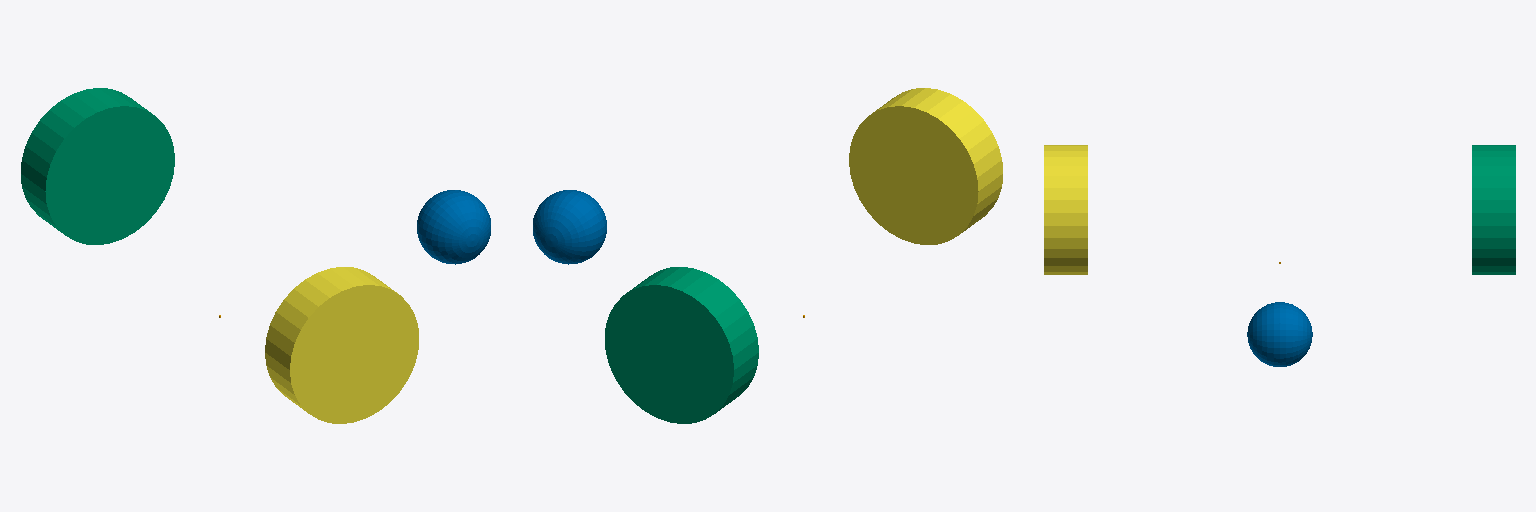
The robot description file, URDF, robot "lubobot_description":
<?xml version="1.0" ?>
<!-- =================================================================================== -->
<!-- |    This document was autogenerated by xacro from /catkin_ws/src/lubobot/urdf/lubobot.urdf.xacro | -->
<!-- |    EDITING THIS FILE BY HAND IS NOT RECOMMENDED                                 | -->
<!-- =================================================================================== -->
<robot name="lubobot_description" xmlns:xacro="http://ros.org/wiki/xacro">
  <link name="base_footprint">
    <visual>
      <origin rpy="0 0 0" xyz="0 0 0"/>
      <geometry>
        <box size="0.001 0.001 0.001"/>
      </geometry>
      <material name="Green"/>
    </visual>
    <collision>
      <origin rpy="0 0 0" xyz="0 0 0.017"/>
      <geometry>
        <box size="0.001 0.001 0.001"/>
      </geometry>
    </collision>
  </link>
  <link name="base_link">
    <inertial>
      <mass value="2"/>
      <origin xyz="0 0 0.0"/>
      <inertia ixx="0.01" ixy="0.0" ixz="0.0" iyy="0.01" iyz="0.0" izz="0.5"/>
    </inertial>
    <visual>
      <origin rpy="0 0 0" xyz=" 0 0 0.0308"/>
      <geometry>
        <mesh filename="package://lubobot/meshes/create_2.dae"/>
      </geometry>
    </visual>
    <collision>
      <origin rpy="0 0 0" xyz="0.0 0.0 0.0308"/>
      <geometry>
        <cylinder length="0.0611632" radius="0.16495"/>
      </geometry>
    </collision>
  </link>
  <joint name="base_footprint_joint" type="fixed">
    <origin rpy="0 0 0" xyz="0 0 0.017"/>
    <parent link="base_footprint"/>
    <child link="base_link"/>
  </joint>
  <link name="left_wheel_link">
    <inertial>
      <origin xyz="0 0 0"/>
      <mass value="0.01"/>
      <inertia ixx="0.001" ixy="0.0" ixz="0.0" iyy="0.001" iyz="0.0" izz="0.001"/>
    </inertial>
    <visual>
      <origin rpy="0 1.57079632679 1.57079632679" xyz="0 0 0"/>
      <geometry>
        <cylinder length="0.024" radius="0.036"/>
      </geometry>
    </visual>
    <collision>
      <origin rpy="0 1.57079632679 1.57079632679" xyz="0 0 0"/>
      <geometry>
        <cylinder length="0.024" radius="0.036"/>
      </geometry>
    </collision>
  </link>
  <joint name="left_wheel_joint" type="continuous">
    <origin rpy="0 0 0" xyz="0 0.1175 0.015"/>
    <parent link="base_link"/>
    <child link="left_wheel_link"/>
    <axis xyz="0 1 0"/>
  </joint>
  <link name="right_wheel_link">
    <inertial>
      <origin xyz="0 0 0"/>
      <mass value="0.01"/>
      <inertia ixx="0.001" ixy="0.0" ixz="0.0" iyy="0.001" iyz="0.0" izz="0.001"/>
    </inertial>
    <visual>
      <origin rpy="0 1.57079632679 1.57079632679" xyz="0 0 0"/>
      <geometry>
        <cylinder length="0.024" radius="0.036"/>
      </geometry>
    </visual>
    <collision>
      <origin rpy="0 1.57079632679 1.57079632679" xyz="0 0 0"/>
      <geometry>
        <cylinder length="0.024" radius="0.036"/>
      </geometry>
    </collision>
  </link>
  <joint name="right_wheel_joint" type="continuous">
    <origin rpy="0 0 0" xyz="0 -0.1175 0.015"/>
    <parent link="base_link"/>
    <child link="right_wheel_link"/>
    <axis xyz="0 1 0"/>
  </joint>
  <link name="front_wheel_link">
    <inertial>
      <origin xyz="0 0 0"/>
      <mass value="0.01"/>
      <inertia ixx="0.001" ixy="0.0" ixz="0.0" iyy="0.001" iyz="0.0" izz="0.001"/>
    </inertial>
    <visual>
      <origin rpy="0 1.57079632679 1.57079632679" xyz="0 0 0"/>
      <geometry>
        <sphere radius="0.018"/>
      </geometry>
    </visual>
    <collision>
      <origin rpy="0 1.57079632679 1.57079632679" xyz="0 0 0"/>
      <geometry>
        <sphere radius="0.018"/>
      </geometry>
    </collision>
  </link>
  <!-- fixed because there's no transmission -->
  <joint name="front_castor_joint" type="fixed">
    <origin rpy="0 0 0" xyz="0.13 0 0.0"/>
    <parent link="base_link"/>
    <child link="front_wheel_link"/>
    <axis xyz="0 1 0"/>
  </joint>
  <joint name="shoulder_kinect_joint" type="fixed">
    <origin rpy="0.01708077682636155 0.4085798647123734 -0.09294704527264909" xyz="-0.135394 -0.00764754 1.54755"/>
    <parent link="base_link"/>
    <child link="shoulder_kinect_link"/>
  </joint>
  <link name="shoulder_kinect_link">
    <visual>
      <origin rpy="1.57075 0 1.57075" xyz="-0.05 -0.17 -0.02"/>
      <geometry>
        <mesh filename="package://lubobot/meshes/kinect/68-04546_Kinect_Sensor--coarse.STL" scale="0.001 0.001 0.001"/>
      </geometry>
      <material name="gray">
        <color rgba="0.5 0.5 0.5 1"/>
      </material>
    </visual>
    <collision>
      <origin rpy="1.57075 0 1.57075" xyz="-0.05 -0.17 -0.02"/>
      <geometry>
        <mesh filename="package://lubobot/kinect/meshes/68-04546_Kinect_Sensor--coarse_simple.STL" scale="0.001 0.001 0.001"/>
      </geometry>
    </collision>
  </link>
</robot>

--- What the picture shows (computed from the rendered views, not written in the file) ---
The picture shows the robot from 3 angles, left to right: view 1: azimuth 30°, elevation 25°; view 2: azimuth 150°, elevation 25°; view 3: azimuth 270°, elevation 25°; orthographic projection.
Robot: lubobot_description — 6 links, 5 joints (2 continuous, 3 fixed); root link base_footprint; default pose: all joints at 0.
Links seen in each view (by area): view 1: left_wheel_link, right_wheel_link, front_wheel_link; view 2: left_wheel_link, right_wheel_link, front_wheel_link; view 3: left_wheel_link, right_wheel_link, front_wheel_link.
Link boxes in pixels (<box>): left_wheel_link: <box>21,88,174,244</box>; right_wheel_link: <box>265,267,418,423</box>; front_wheel_link: <box>417,190,490,264</box>; left_wheel_link: <box>605,267,758,423</box>; right_wheel_link: <box>849,88,1002,244</box>; front_wheel_link: <box>533,190,606,264</box>; left_wheel_link: <box>1472,145,1515,274</box>; right_wheel_link: <box>1044,145,1087,274</box>; front_wheel_link: <box>1247,302,1312,366</box>.
Bounding box of the posed robot: 0.184 × 0.259 × 0.072 m (x, y, z).
Meshes: 2 distinct files referenced, 0 mesh visuals loaded (none loaded); not drawn: 2 (reference not matched to a file when rendering).